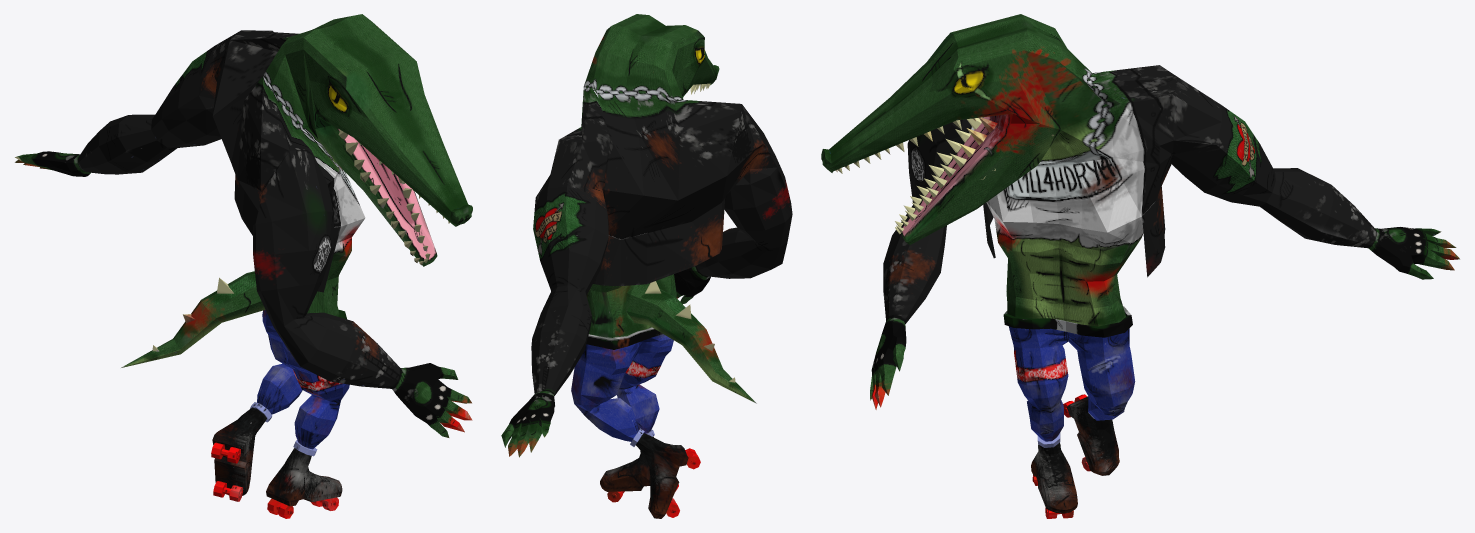
Rendered from cocodrilaBonesSelect_000046.obj.
The picture shows the model from 3 angles, left to right: view 1: azimuth 30°, elevation 25°; view 2: azimuth 150°, elevation 25°; view 3: azimuth 270°, elevation 25°; orthographic projection. The views are drawn at different scales.
Visible parts, largest first — view 1: Crocodile.002_Cylinder.002; view 2: Crocodile.002_Cylinder.002; view 3: Crocodile.002_Cylinder.002.
Boxes of the visible parts, left/top/right/bottom form: Crocodile.002_Cylinder.002: left=15, top=14, right=472, bottom=518; Crocodile.002_Cylinder.002: left=501, top=14, right=792, bottom=518; Crocodile.002_Cylinder.002: left=821, top=14, right=1459, bottom=518.
Bounding box in the file's own units: 3.26 × 6.52 × 7.68.
